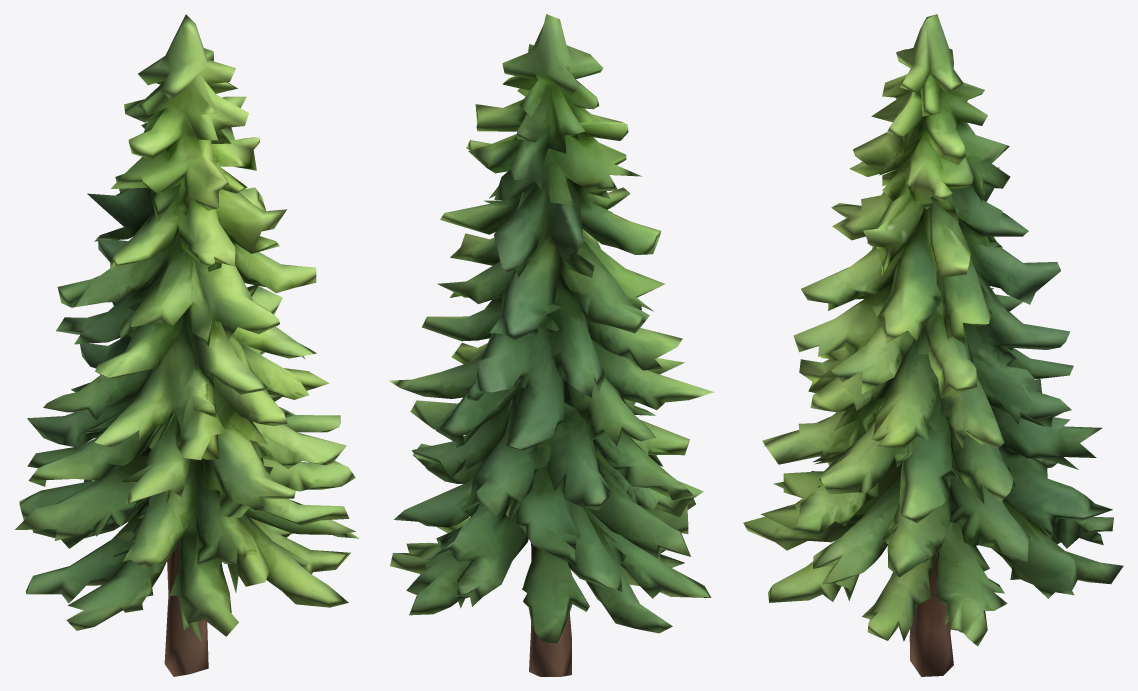
The model's file is larch_tripo.glb.
3 views of the same model, side by side, from view 1: azimuth 30°, elevation 25°; view 2: azimuth 150°, elevation 25°; view 3: azimuth 270°, elevation 25° (orthographic).
Parts seen in each view (by area): view 1: tripo_node_acc7f37a-fec5-4caf-afe8-31124c916474; view 2: tripo_node_acc7f37a-fec5-4caf-afe8-31124c916474; view 3: tripo_node_acc7f37a-fec5-4caf-afe8-31124c916474.
Boxes of the visible parts, <box> form: tripo_node_acc7f37a-fec5-4caf-afe8-31124c916474: <box>15,14,358,676</box>; tripo_node_acc7f37a-fec5-4caf-afe8-31124c916474: <box>389,14,714,676</box>; tripo_node_acc7f37a-fec5-4caf-afe8-31124c916474: <box>743,14,1123,676</box>.
Size of the model in its own units: 0.4937 by 1 by 0.525.
Materials: 1 (1 with a texture image).
